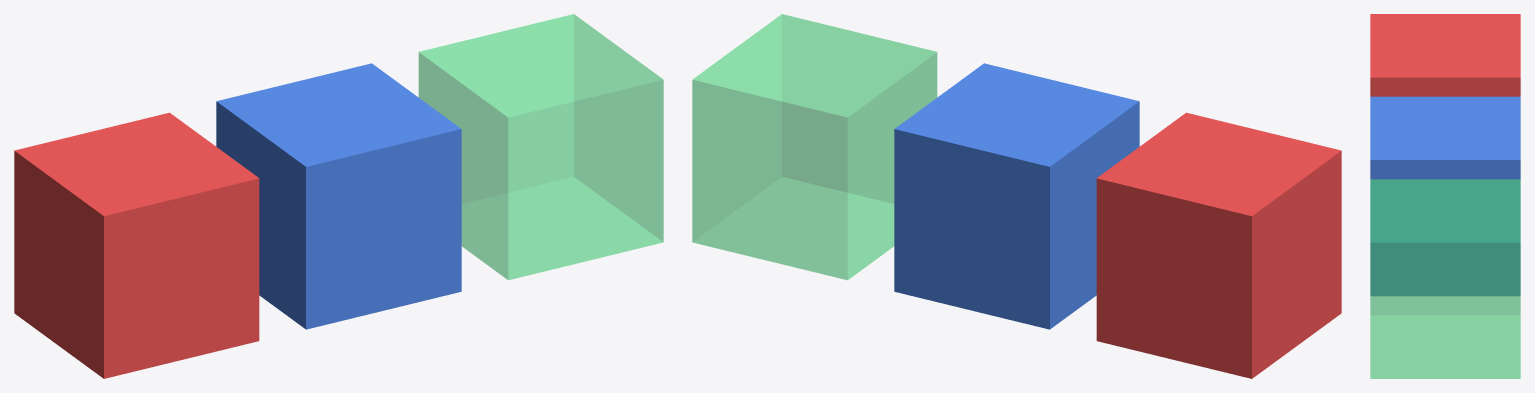
The model's file is material-demo.glb.
3 renders of one model, left to right at view 1: azimuth 30°, elevation 25°; view 2: azimuth 150°, elevation 25°; view 3: azimuth 270°, elevation 25°, orthographic. The views are drawn at different scales.
Parts seen in each view (by area): view 1: Instance0, Instance1, Instance2; view 2: Instance0, Instance1, Instance2; view 3: Instance1, Instance2, Instance0.
Boxes of the visible parts, left/top/right/bottom form: Instance0: left=14, top=112, right=259, bottom=378; Instance1: left=216, top=63, right=461, bottom=329; Instance2: left=418, top=14, right=663, bottom=280; Instance0: left=1096, top=112, right=1341, bottom=378; Instance1: left=894, top=63, right=1139, bottom=329; Instance2: left=692, top=14, right=937, bottom=280; Instance1: left=1370, top=96, right=1520, bottom=295; Instance2: left=1370, top=179, right=1520, bottom=378; Instance0: left=1370, top=14, right=1520, bottom=96.
Bounding box in the file's own units: 3.6 × 1 × 1.
